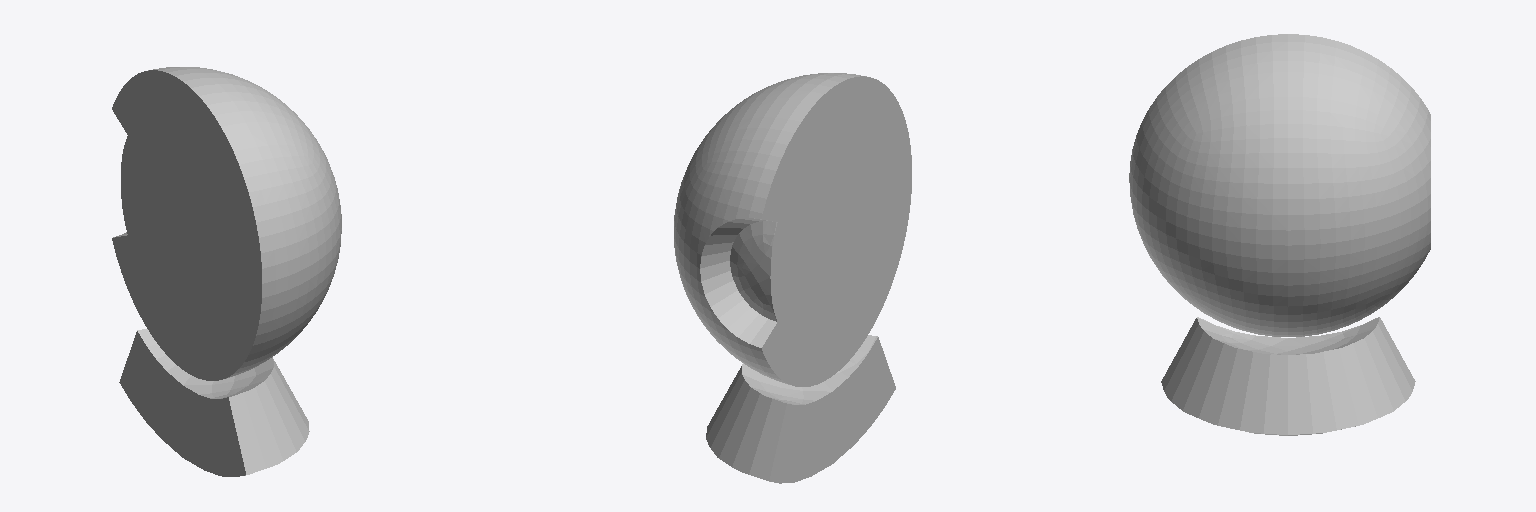
Rendered from HalfModel.obj.
The picture shows the model from 3 angles: view 1: azimuth 30°, elevation 25°; view 2: azimuth 150°, elevation 25°; view 3: azimuth 270°, elevation 25°; orthographic projection.
Visible parts, largest first — view 1: Cube; view 2: Cube; view 3: Cube.
Part boxes in pixels (left/top/right/bottom): Cube: left=112, top=67, right=341, bottom=476; Cube: left=674, top=73, right=911, bottom=483; Cube: left=1129, top=34, right=1430, bottom=435.
Size of the model in its own units: 0.8563 by 2.24 by 1.62.